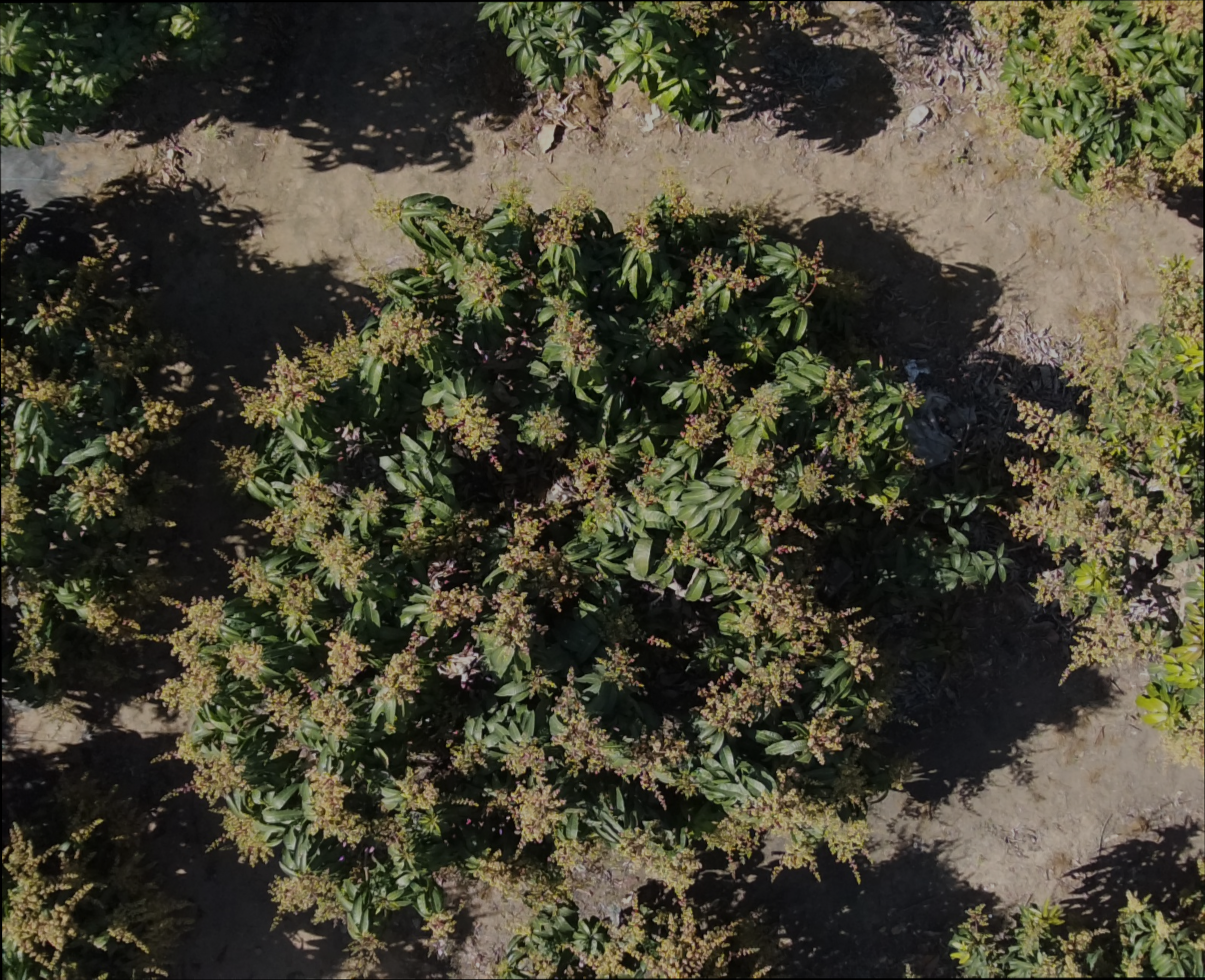flowers: (698, 572, 878, 736), (234, 307, 438, 427), (1, 818, 150, 979), (551, 670, 695, 805), (968, 0, 1141, 106), (702, 772, 869, 879), (1061, 320, 1179, 446), (252, 475, 372, 590), (572, 903, 742, 978), (1001, 457, 1122, 561), (648, 249, 768, 350), (298, 742, 404, 847), (1101, 452, 1203, 551), (84, 306, 193, 391), (230, 555, 333, 644), (498, 504, 580, 612), (155, 596, 225, 714), (488, 738, 564, 846), (1088, 129, 1203, 200), (1059, 611, 1170, 684), (66, 461, 174, 531), (1008, 399, 1104, 473), (226, 641, 303, 732), (499, 183, 601, 251), (681, 384, 784, 449), (467, 849, 573, 911), (22, 256, 104, 335), (594, 606, 672, 689), (617, 822, 700, 898), (424, 395, 502, 470), (174, 733, 252, 803), (0, 343, 77, 408), (105, 398, 184, 460), (12, 582, 58, 683), (823, 366, 868, 464), (948, 904, 1008, 977), (566, 446, 615, 533), (269, 873, 344, 929), (1157, 254, 1203, 341), (800, 239, 862, 303), (480, 589, 541, 651), (205, 812, 272, 867), (374, 633, 424, 704), (85, 596, 157, 644), (549, 302, 600, 369), (1158, 701, 1204, 772), (1042, 927, 1107, 977), (457, 260, 506, 319), (648, 301, 705, 351), (1031, 567, 1089, 616), (836, 484, 907, 524), (725, 448, 776, 497), (308, 685, 354, 739), (325, 630, 369, 686), (693, 350, 745, 397), (334, 933, 387, 979), (1, 468, 31, 547), (1134, 0, 1202, 34), (212, 441, 258, 491), (752, 503, 816, 538), (428, 587, 484, 627), (626, 451, 663, 508), (671, 1, 733, 35), (806, 708, 843, 764), (521, 405, 567, 449), (446, 205, 487, 254), (622, 199, 659, 253), (395, 766, 439, 811), (1044, 134, 1081, 187), (549, 838, 604, 872), (664, 531, 717, 565), (226, 641, 264, 687), (421, 910, 457, 957), (1179, 817, 1204, 879), (797, 461, 833, 503), (748, 383, 784, 420), (448, 741, 485, 775), (0, 218, 27, 263), (527, 665, 556, 698), (864, 697, 891, 732), (525, 951, 557, 978), (900, 381, 924, 410), (738, 220, 764, 246), (489, 957, 513, 978), (1120, 957, 1144, 977), (374, 896, 402, 913), (1186, 90, 1203, 113), (1193, 933, 1204, 953)
